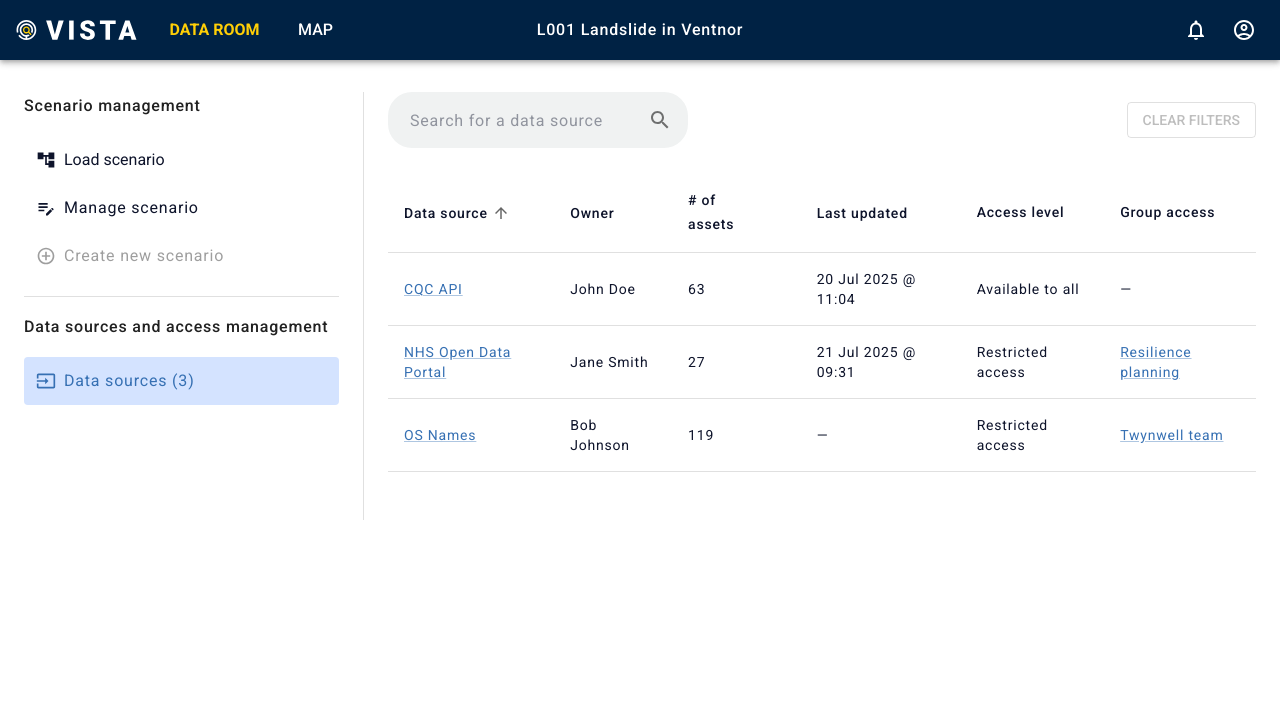
DataSources › Scenario Modal › selects active scenario when no sessionStorage exists in new session
Expected: the link "CQC API" is shown, [404,281,463,297]
Click the button "Load scenario".
click(114, 160)  # box [24,136,339,184]
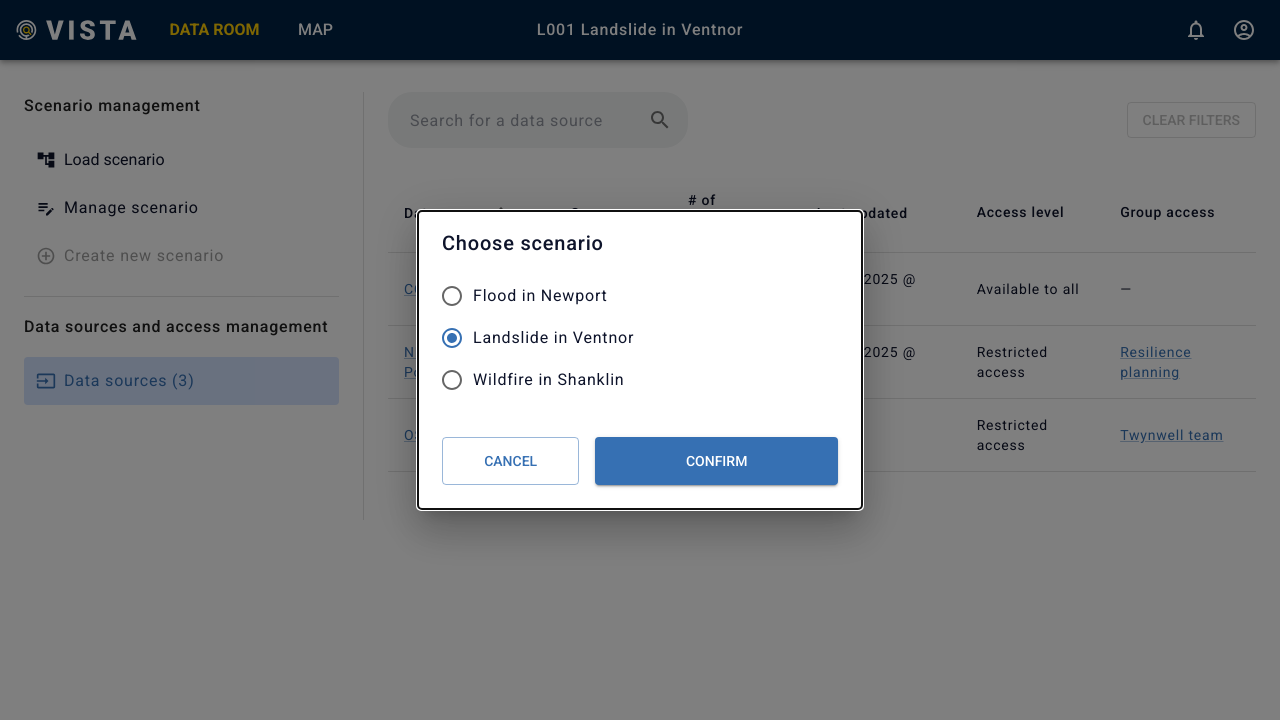
Result: the radio button labelled "Landslide in Ventnor" is checked at [440,326,634,350]
